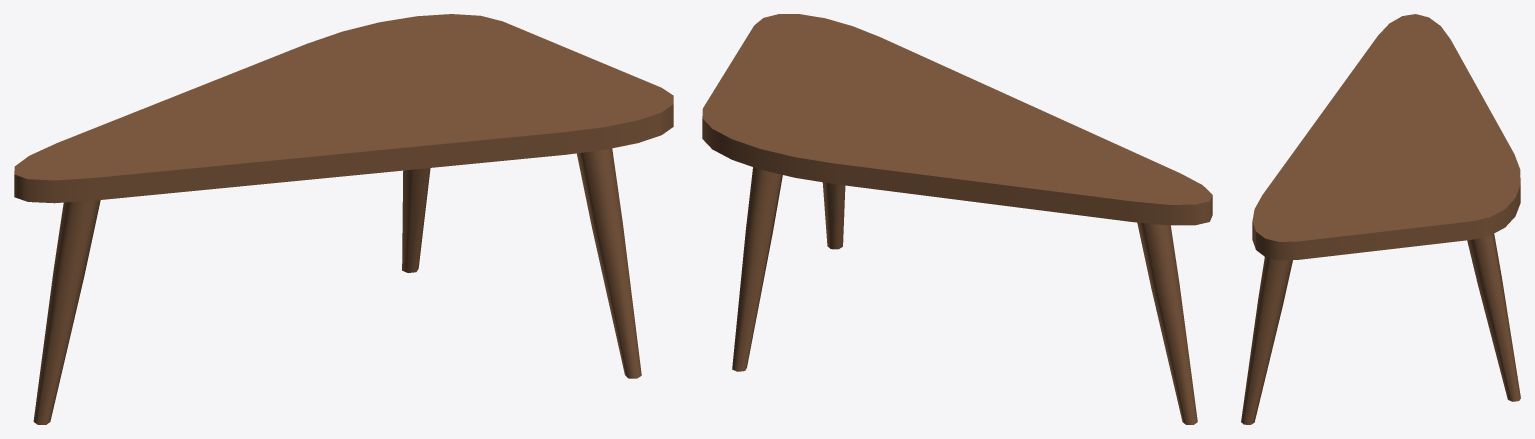
Rendered from Brown Coffee Table.fbx.
The picture shows the model from 3 angles, left to right: view 1: azimuth 30°, elevation 25°; view 2: azimuth 150°, elevation 25°; view 3: azimuth 270°, elevation 25°; orthographic projection. The views are drawn at different scales.
Parts seen in each view (by area): view 1: Plane.043, Plane.044; view 2: Plane.043, Plane.044; view 3: Plane.043, Plane.044.
Part boxes in pixels (x1,y1,x2,y2): Plane.043: [14, 14, 673, 203]; Plane.044: [33, 148, 641, 424]; Plane.043: [702, 14, 1212, 225]; Plane.044: [732, 167, 1197, 424]; Plane.043: [1252, 14, 1520, 260]; Plane.044: [1241, 234, 1520, 424].
Bounding box in the file's own units: 5299 × 2750 × 2211.
